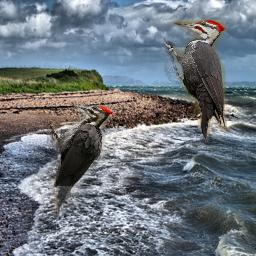Woodpecker: (164, 20, 227, 143), (47, 105, 114, 216)
